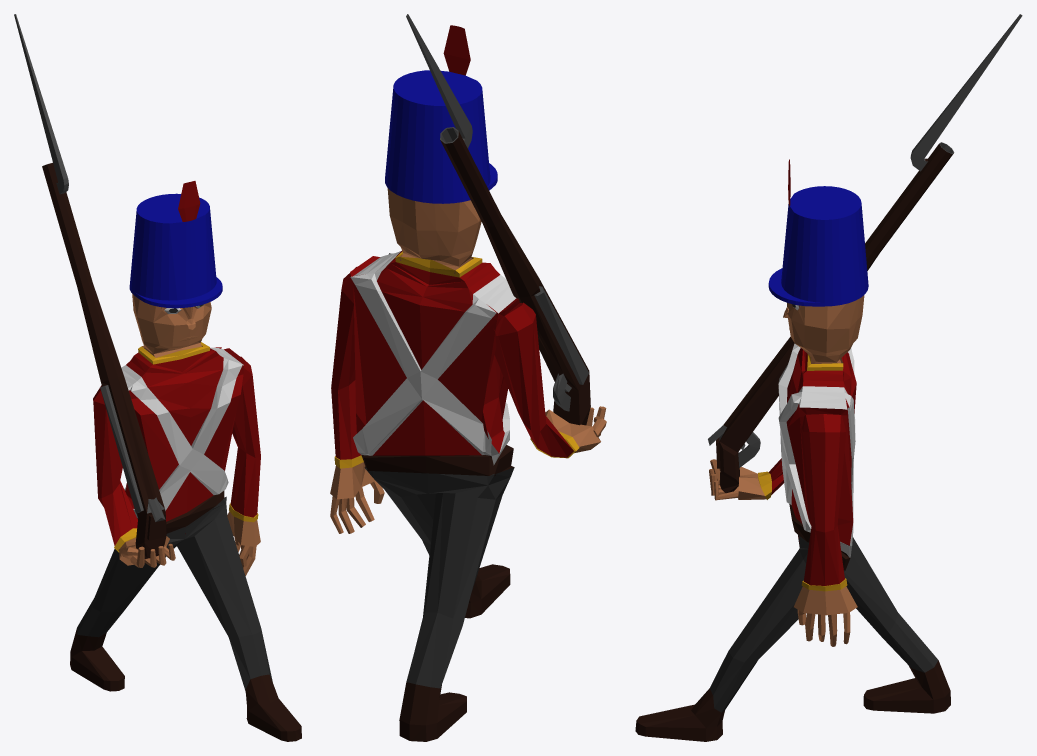
File: Infantry_000116.obj
3 renders of one model, left to right at view 1: azimuth 30°, elevation 25°; view 2: azimuth 150°, elevation 25°; view 3: azimuth 270°, elevation 25°, orthographic. The views are drawn at different scales.
Visible parts, largest first — view 1: {Man}_Circle, {Mesket}_Cube.001; view 2: {Man}_Circle, {Mesket}_Cube.001; view 3: {Man}_Circle, {Mesket}_Cube.001.
Part boxes in pixels (x1=…): {Man}_Circle: x1=70, y1=181, x2=301, y2=741; {Mesket}_Cube.001: x1=14, y1=14, x2=166, y2=559; {Man}_Circle: x1=330, y1=25, x2=606, y2=741; {Mesket}_Cube.001: x1=406, y1=14, x2=590, y2=425; {Man}_Circle: x1=635, y1=159, x2=950, y2=741; {Mesket}_Cube.001: x1=708, y1=14, x2=1022, y2=493.
Size of the model in its own units: 5.63 by 18.8 by 9.75.
